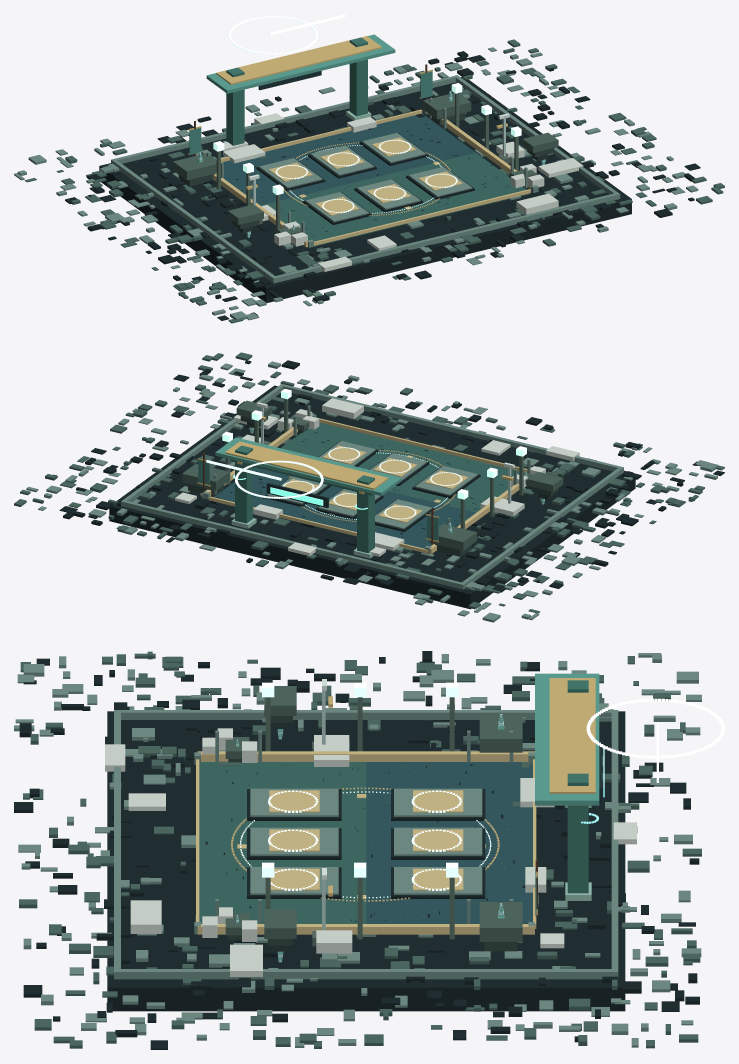
File: preview-xianxia.glb
3 renders of one model, top to bottom at view 1: azimuth 30°, elevation 25°; view 2: azimuth 150°, elevation 25°; view 3: azimuth 270°, elevation 25°, orthographic. The views are drawn at different scales.
Parts seen in each view (by area): view 1: Miniature_Outer_Rubble, Miniature_Plinth, Miniature_Six_Grounded_Foundations (×2), Miniature_Enemy_Floor, Miniature_Friendly_Floor, Miniature_Frame, Miniature_Cloud_Banks, Miniature_Immortal_Roof, Miniature_Floating_Islands, Miniature_Arena_Curb, Miniature_Immortal_Gate, Miniature_Rune_Lanterns (×2) (+3 smaller); view 2: Miniature_Outer_Rubble, Miniature_Plinth, Miniature_Frame, Miniature_Six_Grounded_Foundations (×2), Miniature_Friendly_Floor, Miniature_Enemy_Floor, Miniature_Cloud_Banks, Miniature_Immortal_Roof, Miniature_Floating_Islands, Miniature_Immortal_Gate, Miniature_Arena_Curb, Miniature_Rune_Lanterns (×2) (+2 smaller); view 3: Miniature_Plinth, Miniature_Outer_Rubble, Miniature_Six_Grounded_Foundations (×2), Miniature_Enemy_Floor, Miniature_Friendly_Floor, Miniature_Frame, Miniature_Cloud_Banks, Miniature_Immortal_Roof, Miniature_Floating_Islands, Miniature_Arena_Curb, Miniature_Rune_Lanterns (×2), Miniature_Immortal_Gate (+3 smaller).
Boxes of the visible parts, <box> form: Miniature_Outer_Rubble: <box>14,39,724,323</box>; Miniature_Plinth: <box>99,79,631,302</box>; Miniature_Six_Grounded_Foundations (×2): <box>256,132,474,225</box>; Miniature_Enemy_Floor: <box>223,113,475,205</box>; Miniature_Friendly_Floor: <box>261,153,529,247</box>; Miniature_Frame: <box>111,75,620,283</box>; Miniature_Cloud_Banks: <box>223,113,583,271</box>; Miniature_Immortal_Roof: <box>206,34,395,93</box>; Miniature_Floating_Islands: <box>173,93,558,234</box>; Miniature_Arena_Curb: <box>213,109,531,247</box>; Miniature_Immortal_Gate: <box>222,37,371,145</box>; Miniature_Rune_Lanterns (×2): <box>213,83,521,233</box>; Miniature_Outer_Rubble: <box>14,352,724,622</box>; Miniature_Plinth: <box>109,385,635,609</box>; Miniature_Frame: <box>121,384,623,589</box>; Miniature_Six_Grounded_Foundations (×2): <box>265,440,480,531</box>; Miniature_Friendly_Floor: <box>281,422,519,512</box>; Miniature_Enemy_Floor: <box>214,467,475,553</box>; Miniature_Cloud_Banks: <box>175,398,579,556</box>; Miniature_Immortal_Roof: <box>215,437,401,495</box>; Miniature_Floating_Islands: <box>182,400,563,556</box>; Miniature_Immortal_Gate: <box>230,445,374,558</box>; Miniature_Arena_Curb: <box>202,418,527,553</box>; Miniature_Rune_Lanterns (×2): <box>222,389,526,528</box>; Miniature_Plinth: <box>107,711,625,1011</box>; Miniature_Outer_Rubble: <box>14,651,701,1049</box>; Miniature_Six_Grounded_Foundations (×2): <box>247,788,485,898</box>; Miniature_Enemy_Floor: <box>366,762,532,923</box>; Miniature_Friendly_Floor: <box>199,762,366,923</box>; Miniature_Frame: <box>114,710,618,979</box>; Miniature_Cloud_Banks: <box>105,728,636,976</box>; Miniature_Immortal_Roof: <box>535,673,599,805</box>; Miniature_Floating_Islands: <box>225,686,522,951</box>; Miniature_Arena_Curb: <box>196,751,536,934</box>; Miniature_Rune_Lanterns (×2): <box>262,682,458,939</box>; Miniature_Immortal_Gate: <box>565,680,591,900</box>.
Bounding box in the file's own units: 13.72 × 2.41 × 10.43.
